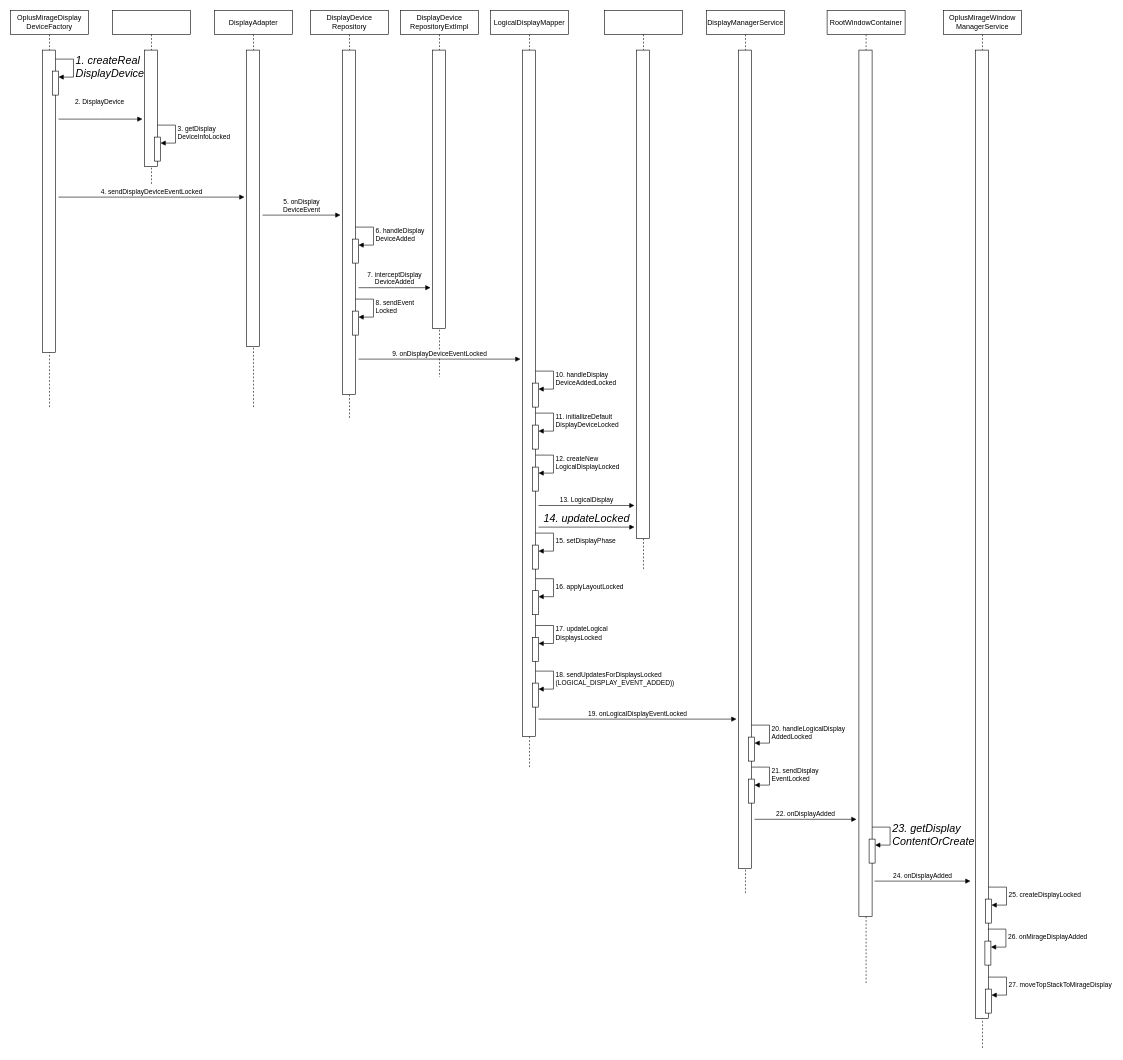
This 1123x1060 diagram has some shape labels left out. The box of each missing label's shape, as (x1, y1, x2, y2) in pixels:
DisplayDevice: (112, 10, 190, 185)
LogicalDisplay: (604, 10, 682, 569)
